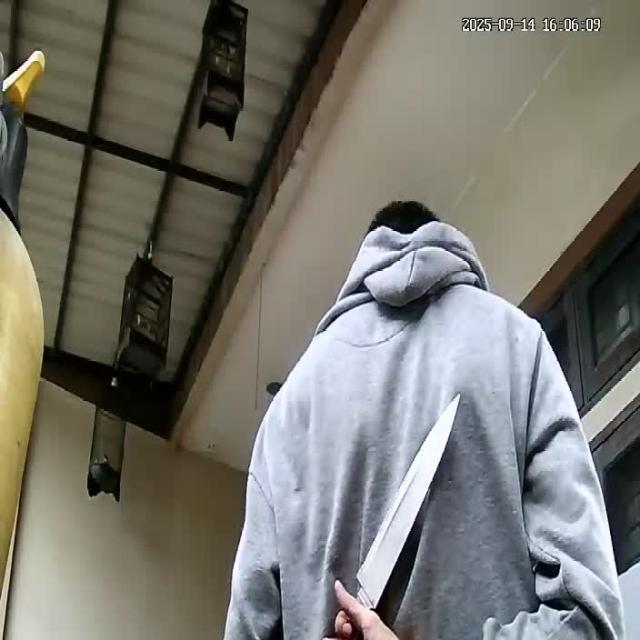senjata_tajam: (354, 389, 464, 610)
